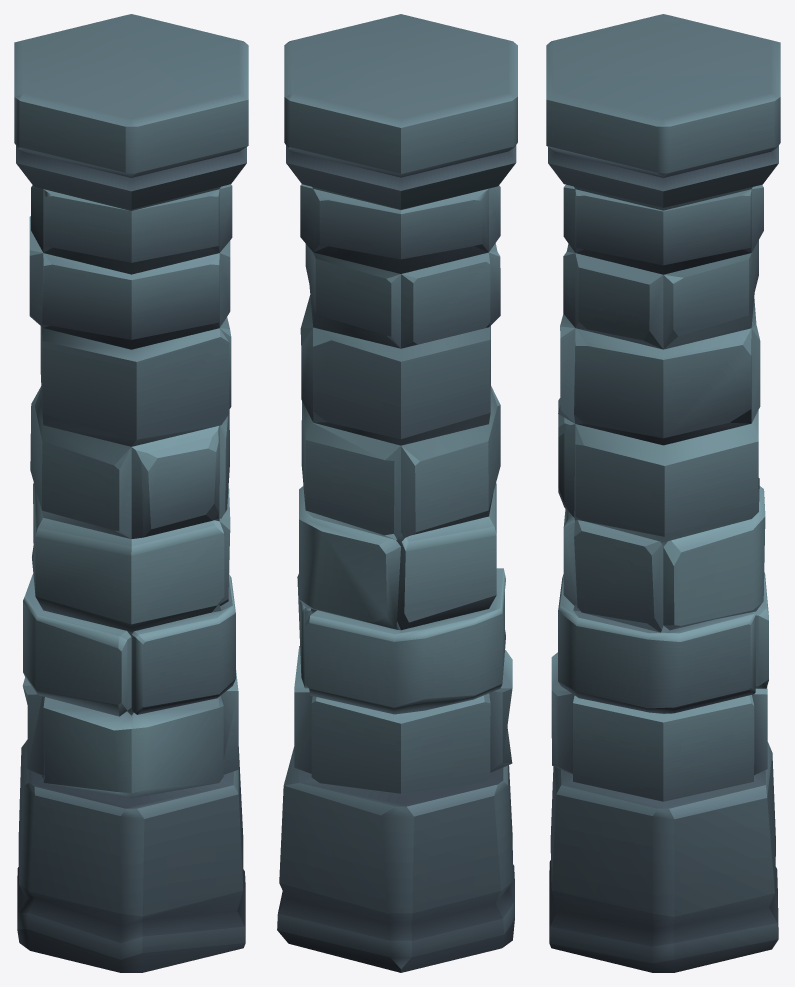
File: Modular_Dungeon_Pillar_Hex.fbx
3 views of the same model, side by side, from view 1: azimuth 30°, elevation 25°; view 2: azimuth 150°, elevation 25°; view 3: azimuth 270°, elevation 25° (orthographic).
Visible parts, largest first — view 1: Pillar_Hex; view 2: Pillar_Hex; view 3: Pillar_Hex.
Boxes of the visible parts, x1=… form: Pillar_Hex: x1=14, y1=14, x2=248, y2=972; Pillar_Hex: x1=277, y1=14, x2=517, y2=972; Pillar_Hex: x1=546, y1=14, x2=780, y2=972.
Bounding box in the file's own units: 2.62 × 9.25 × 2.3.
Materials: 1 (1 with a texture image).
